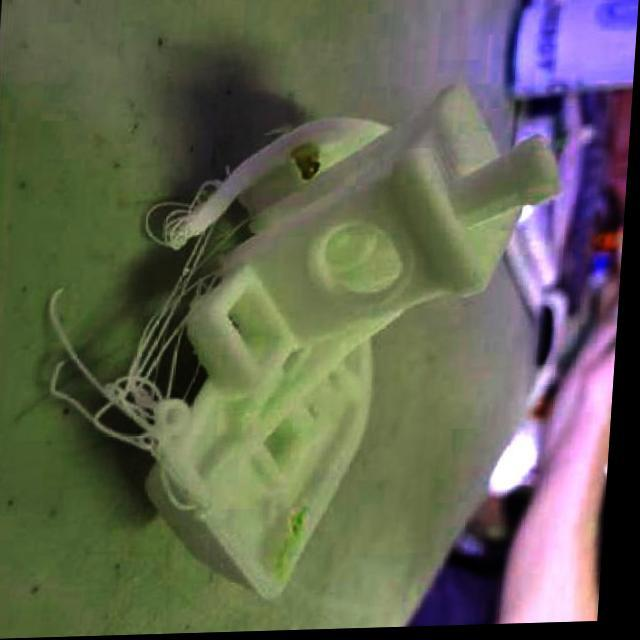spaghetti: (37, 160, 290, 469)
